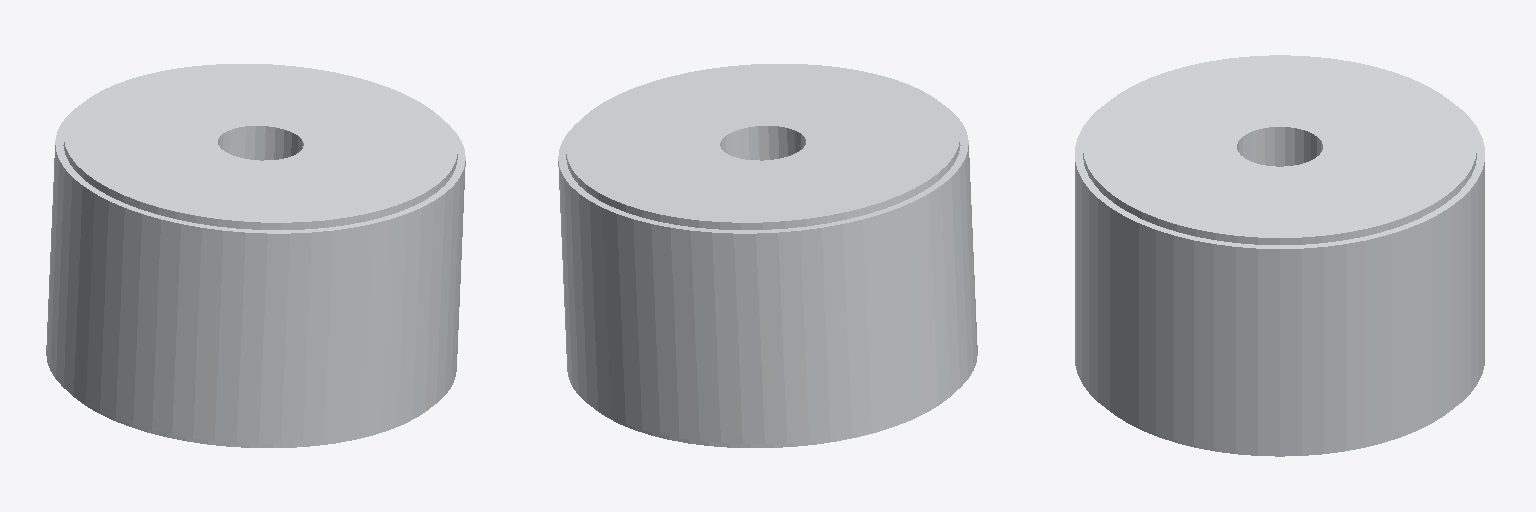
The model's file is B_wheel_l2_1.obj.
The picture shows the model from 3 angles: view 1: azimuth 30°, elevation 25°; view 2: azimuth 150°, elevation 25°; view 3: azimuth 270°, elevation 25°; orthographic projection.
Bounding box in the file's own units: 0.0512 × 0.0321 × 0.0499.